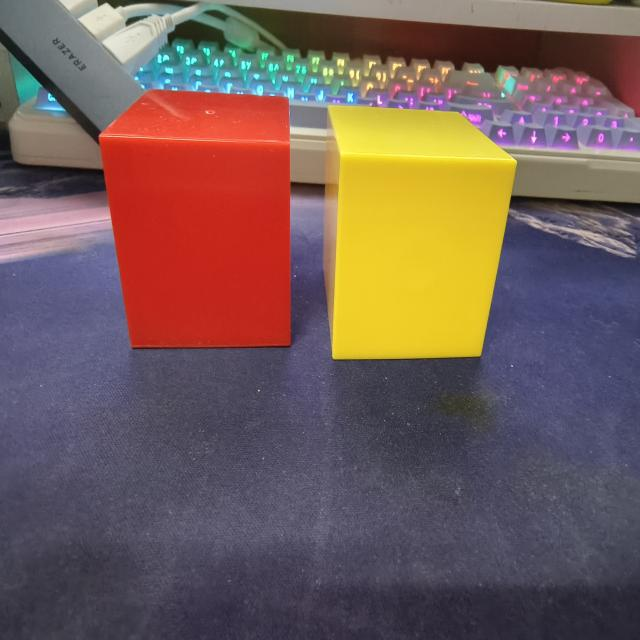red: (97, 90, 294, 353)
yellow: (324, 104, 518, 363)
